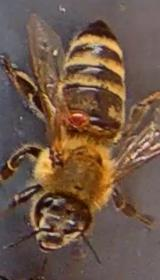varroa_mite: (60, 95, 90, 136)
